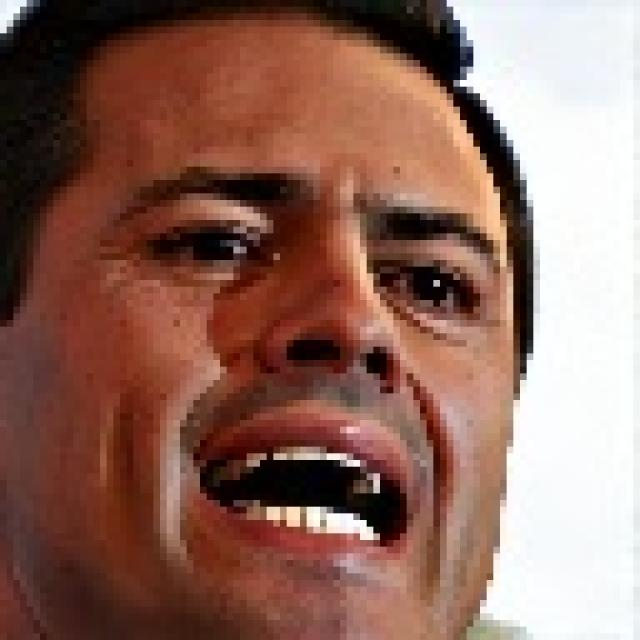angry: (38, 31, 508, 640)
